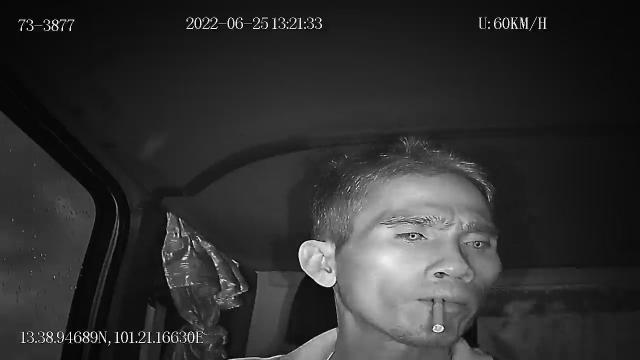SafeDriving: (388, 223, 436, 246), (456, 230, 497, 254)
Smoking: (430, 296, 446, 334)
